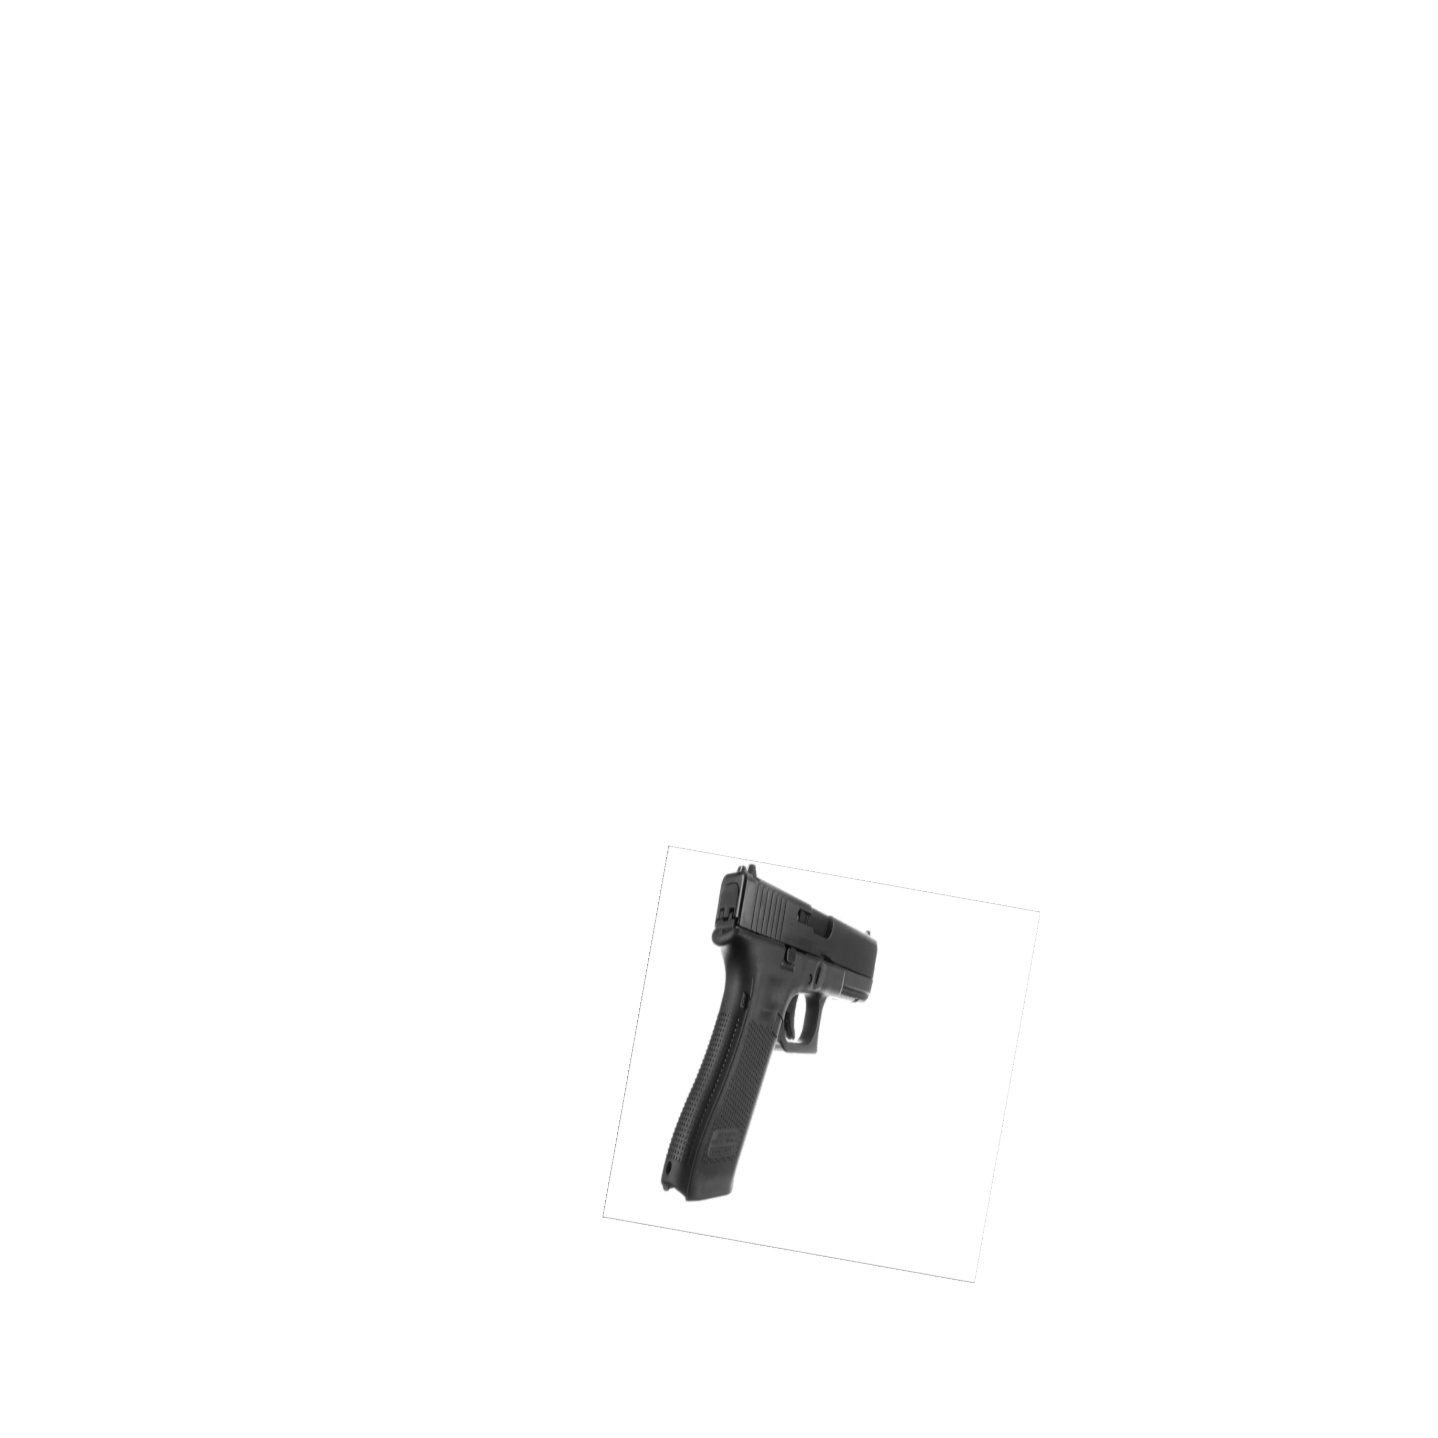gun: (652, 856, 884, 1210)
